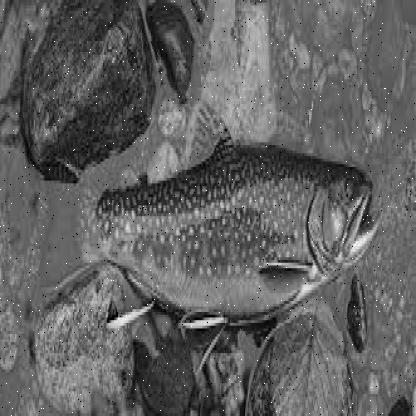fish: (36, 105, 378, 369)
